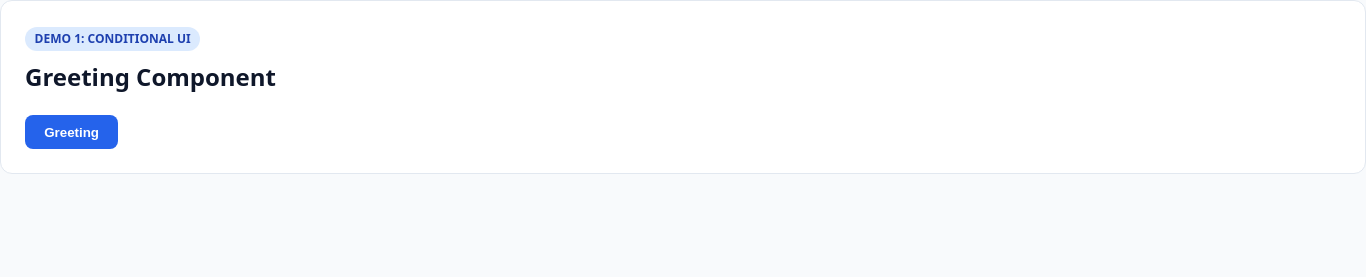
Test case: Testing Greeting component › renders the heading text
Expected: the text "Hello Students" is not shown
Note: Click the button to show the text
Click the button "Greeting": (72, 132) [25,115,118,149]
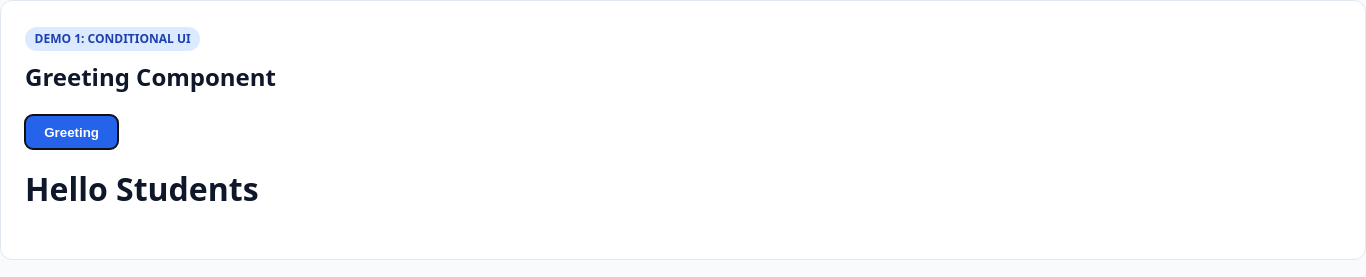
Now the heading "Hello Students" is shown, box [25,167,259,210]
Note: Click again to hide it
Click the button "Greeting": (72, 132) [25,115,118,149]
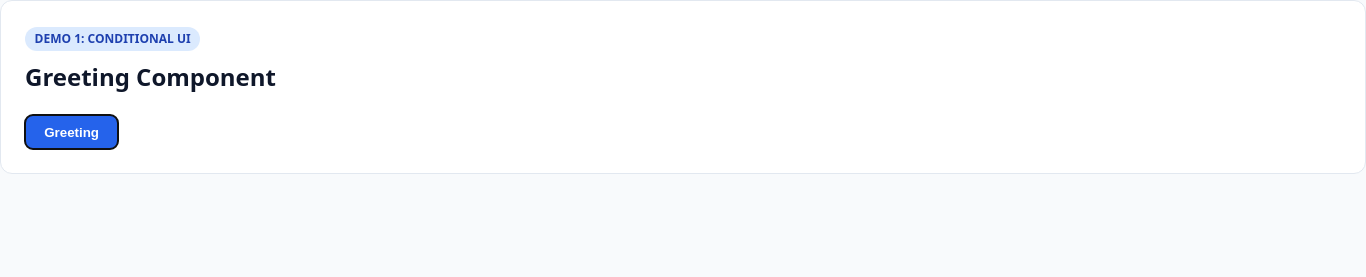
Now the heading "Hello Students" is gone
